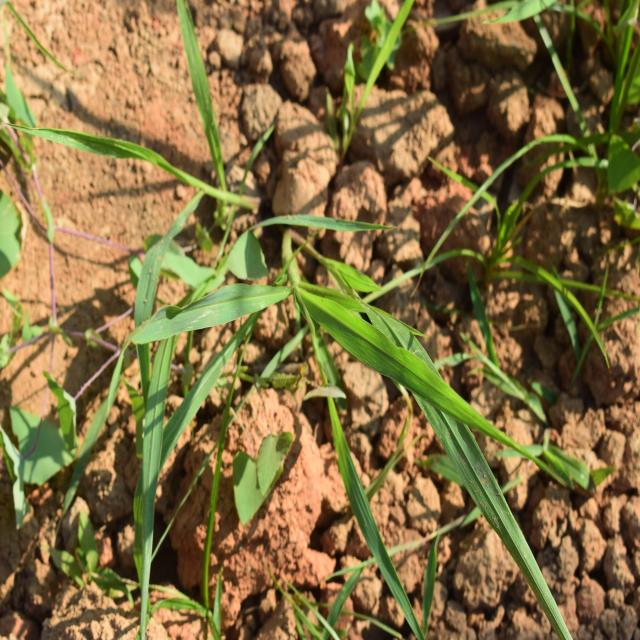green_foxtail: (171, 238, 515, 504)
